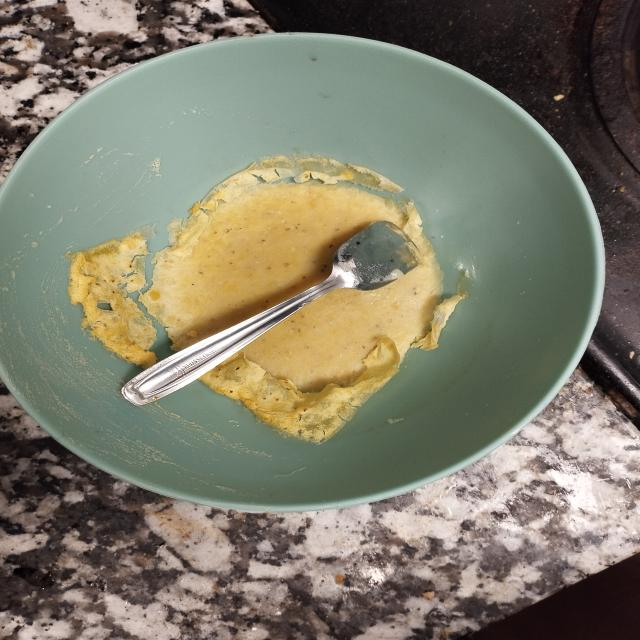Spoon: (68, 217, 440, 406)
